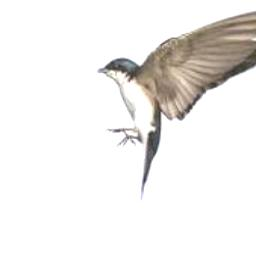Swallow: (98, 9, 256, 202)
